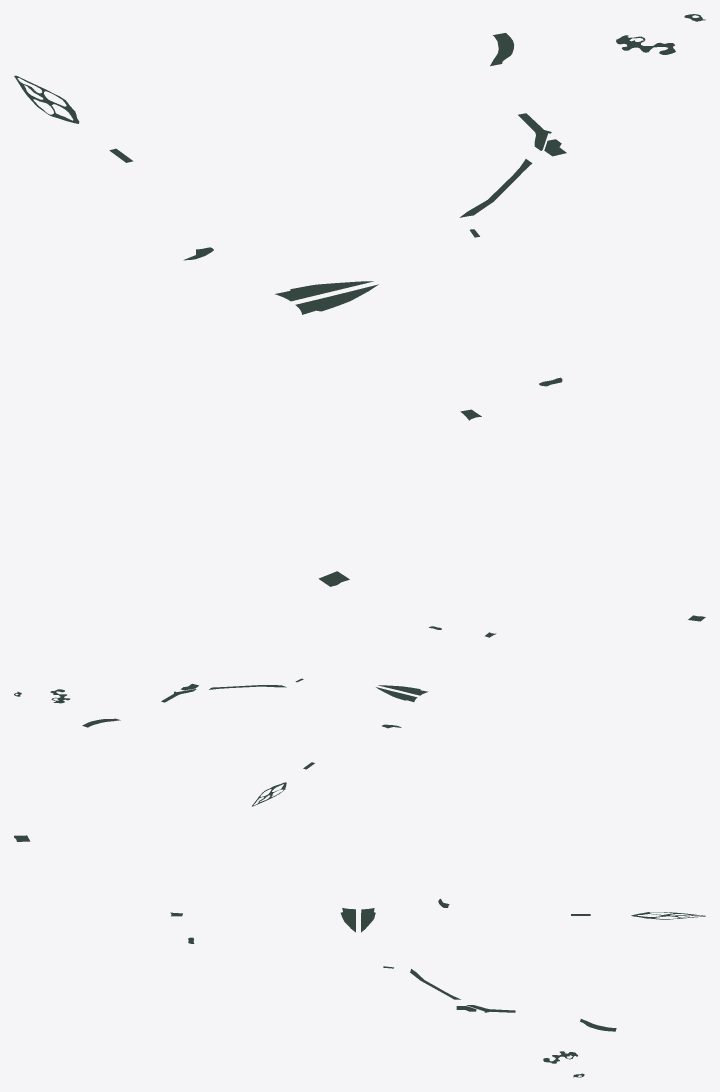
The model's file is water.glb.
The picture shows the model from 3 angles, top to bottom: view 1: azimuth 30°, elevation 25°; view 2: azimuth 150°, elevation 25°; view 3: azimuth 270°, elevation 25°; orthographic projection. The views are drawn at different scales.
Parts seen in each view (by area): view 1: Water | ponds and creeks; view 2: Water | ponds and creeks; view 3: Water | ponds and creeks.
Part boxes in pixels (bbox=[...]): Water | ponds and creeks: bbox=[14, 14, 705, 586]; Water | ponds and creeks: bbox=[14, 615, 705, 806]; Water | ponds and creeks: bbox=[14, 835, 705, 1077].
Size of what is drawn, in the model's own units: 2599 by 1.3 by 3140.
